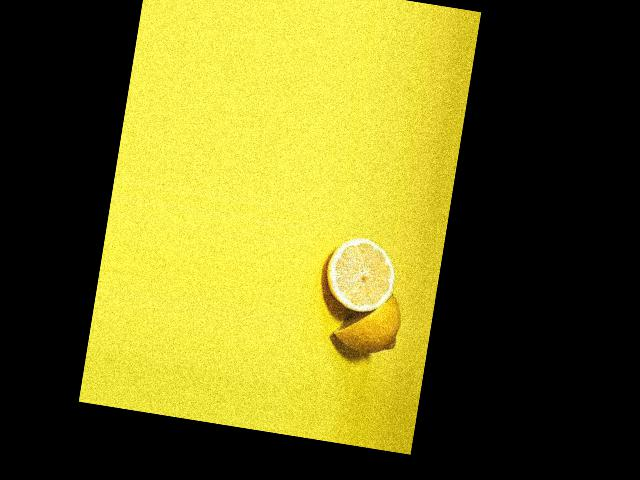lemon: (321, 280, 409, 357)
